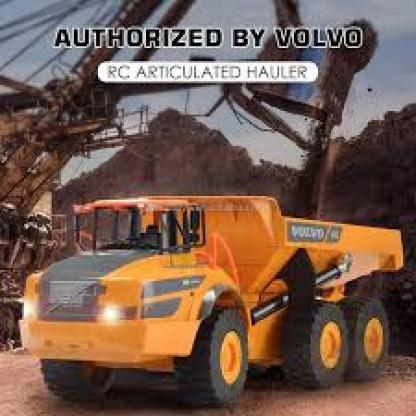dump_truck: (13, 178, 403, 409)
